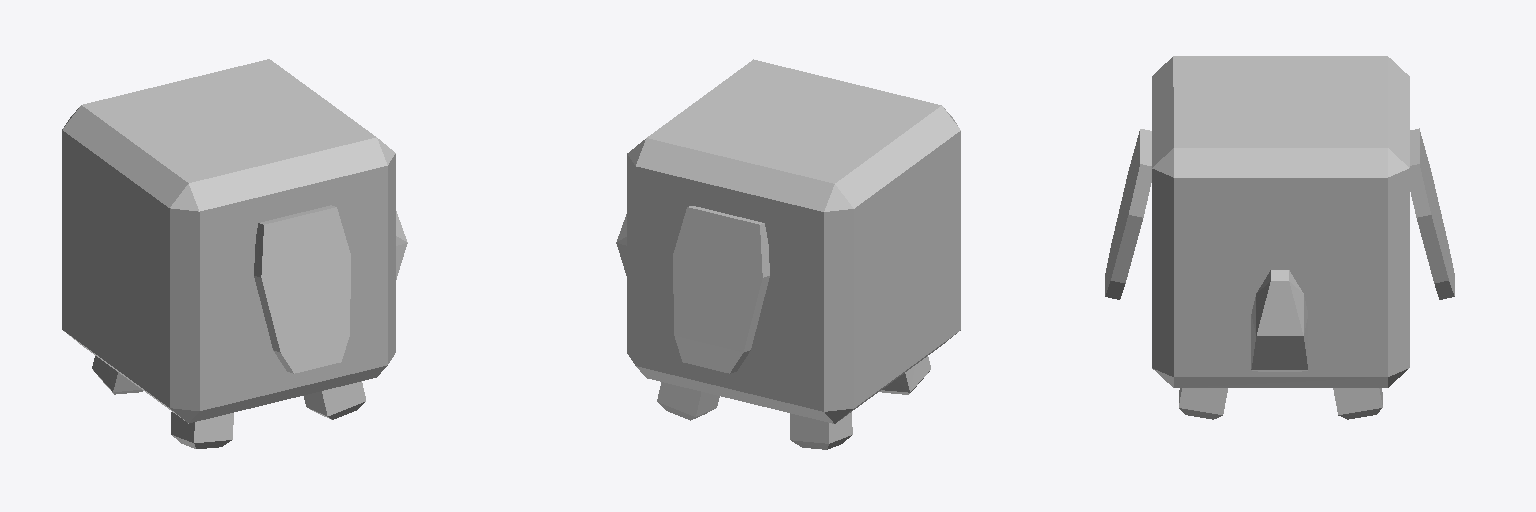
The model's file is doggy.obj.
3 renders of one model, left to right at view 1: azimuth 30°, elevation 25°; view 2: azimuth 150°, elevation 25°; view 3: azimuth 270°, elevation 25°, orthographic.
Visible parts, largest first — view 1: Inner1, Ears1, Stone1; view 2: Inner1, Ears1, Stone1; view 3: Inner1, Ears1, Stone1.
Boxes of the visible parts, box(x1,y1,x2,y2) form: Inner1: box(62, 59, 395, 423); Ears1: box(254, 205, 407, 373); Stone1: box(92, 356, 365, 448); Inner1: box(627, 59, 960, 423); Ears1: box(616, 206, 769, 373); Stone1: box(657, 356, 930, 449); Inner1: box(1152, 56, 1409, 387); Ears1: box(1105, 128, 1454, 371); Stone1: box(1179, 388, 1382, 419).
Bounding box in the file's own units: 1.78 × 1.72 × 1.93.